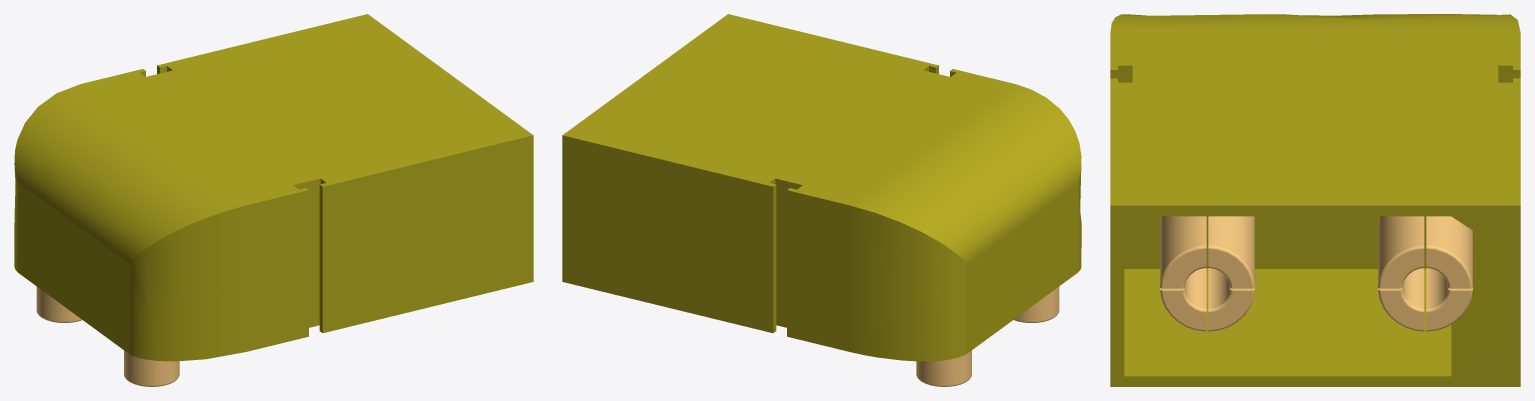
3 renders of one model, left to right at view 1: azimuth 30°, elevation 25°; view 2: azimuth 150°, elevation 25°; view 3: azimuth 270°, elevation 25°, orthographic. The views are drawn at different scales.
Parts seen in each view (by area): view 1: XT90PW-M; view 2: XT90PW-M; view 3: XT90PW-M.
Boxes of the visible parts, <box> form: XT90PW-M: <box>14,14,533,386</box>; XT90PW-M: <box>562,14,1081,386</box>; XT90PW-M: <box>1110,14,1520,386</box>.
Bounding box in the file's own units: 0.0272 × 0.0128 × 0.0207.
